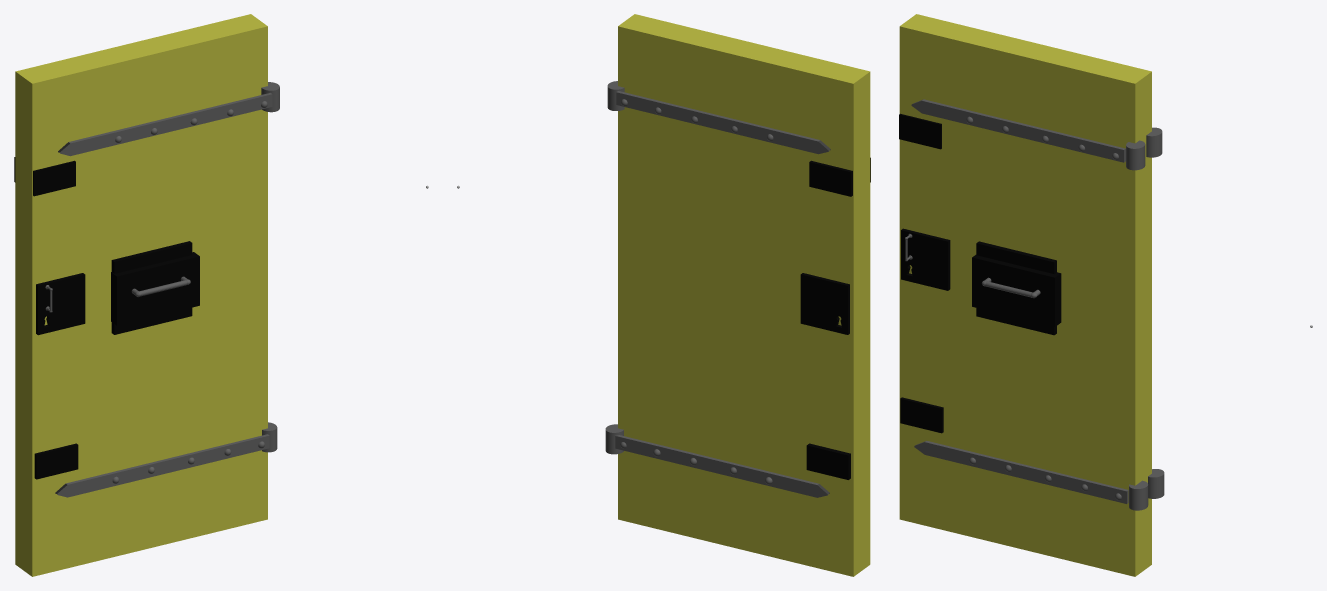
Rendered from Tuer.fbx.
3 views of the same model, side by side, from view 1: azimuth 30°, elevation 25°; view 2: azimuth 150°, elevation 25°; view 3: azimuth 330°, elevation 25° (orthographic).
Visible parts, largest first — view 1: pCube19, pasted__pCube13, pCube12, pasted__pCube12, pCube23, pasted__pasted__pCube13, pasted__pasted__pasted__pCube17, pasted__pasted__pCube17; view 2: pCube19, pasted__pCube12, pasted__pasted__pCube12, pCube23, pasted__pasted__pasted__pCube17, pasted__pasted__pCube17; view 3: pCube19, pasted__pCube13, pasted__pCube12, pCube12, pCube23, pasted__pasted__pCube13, pasted__pasted__pasted__pCube17, pasted__pasted__pCube17, pasted__pCylinder3, pCylinder3.
Boxes of the visible parts, bbox=[...] form: pCube19: bbox=[15, 14, 267, 576]; pasted__pCube13: bbox=[111, 252, 199, 325]; pCube12: bbox=[58, 93, 272, 156]; pasted__pCube12: bbox=[55, 434, 269, 497]; pCube23: bbox=[36, 273, 85, 335]; pasted__pasted__pCube13: bbox=[111, 241, 192, 334]; pasted__pasted__pasted__pCube17: bbox=[34, 443, 78, 479]; pasted__pasted__pCube17: bbox=[14, 157, 75, 196]; pCube19: bbox=[618, 14, 870, 576]; pasted__pCube12: bbox=[616, 91, 830, 154]; pasted__pasted__pCube12: bbox=[615, 435, 829, 497]; pCube23: bbox=[800, 273, 849, 334]; pasted__pasted__pasted__pCube17: bbox=[806, 443, 850, 479]; pasted__pasted__pCube17: bbox=[809, 157, 870, 196]; pCube19: bbox=[899, 14, 1151, 576]; pasted__pCube13: bbox=[972, 255, 1061, 326]; pasted__pCube12: bbox=[914, 440, 1128, 503]; pCube12: bbox=[911, 99, 1125, 162]; pCube23: bbox=[901, 228, 950, 290]; pasted__pasted__pCube13: bbox=[976, 241, 1056, 335]; pasted__pasted__pasted__pCube17: bbox=[900, 397, 943, 433]; pasted__pasted__pCube17: bbox=[899, 113, 941, 149]; pasted__pCylinder3: bbox=[1126, 140, 1145, 170]; pCylinder3: bbox=[1129, 480, 1148, 510].
Bounding box in the file's own units: 8.59 × 10 × 1.35.
